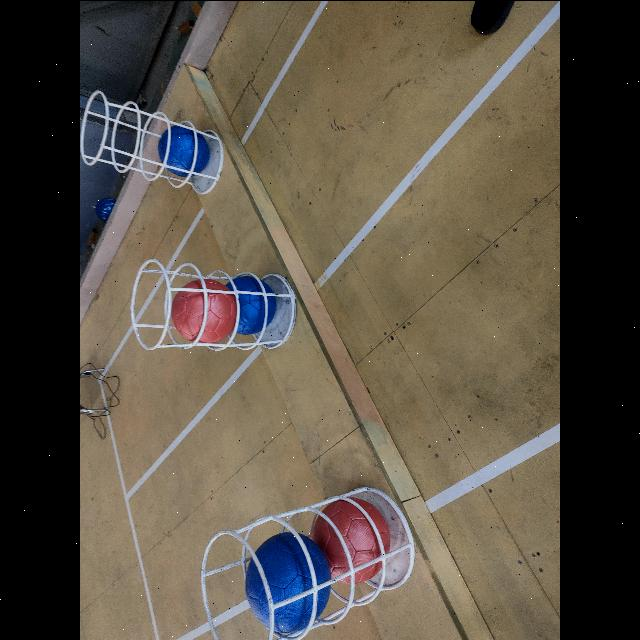B: (244, 532, 328, 634), (157, 123, 209, 175), (236, 274, 278, 334)
R: (331, 496, 392, 584), (172, 278, 234, 344)
